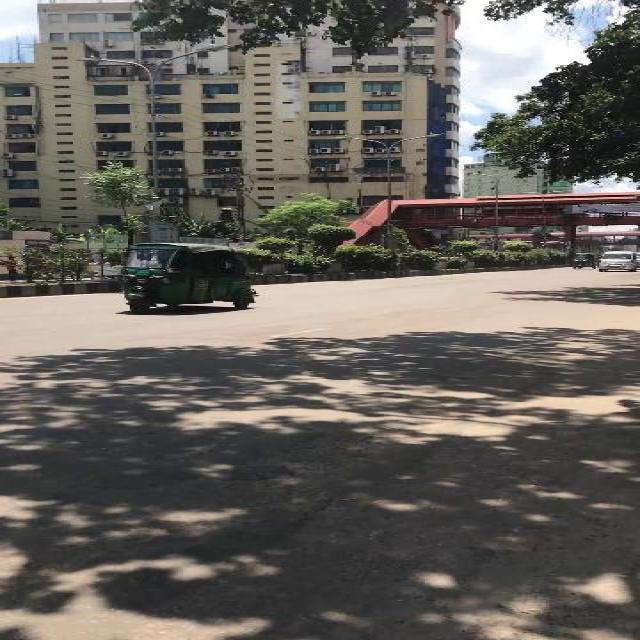three wheelers -CNG-: (114, 240, 258, 310), (570, 252, 596, 270)
van: (598, 250, 636, 272)
